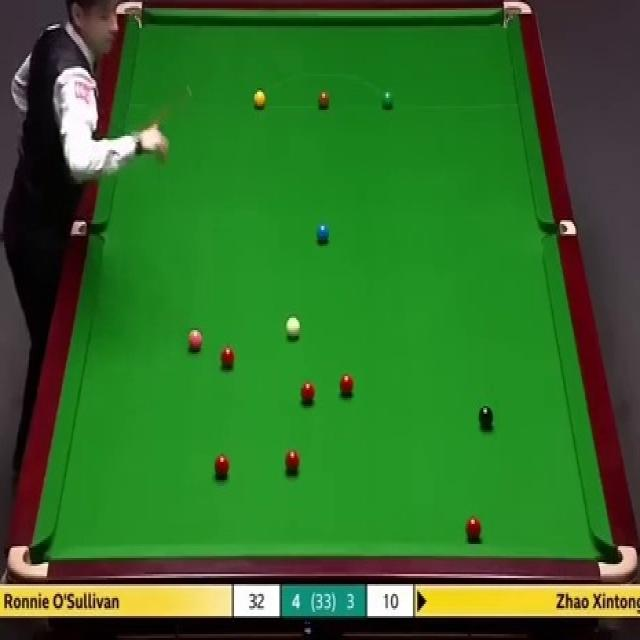pocket: (594, 543, 639, 582), (6, 543, 49, 582), (499, 0, 530, 32), (118, 0, 145, 34), (539, 218, 576, 238), (67, 220, 105, 235)
